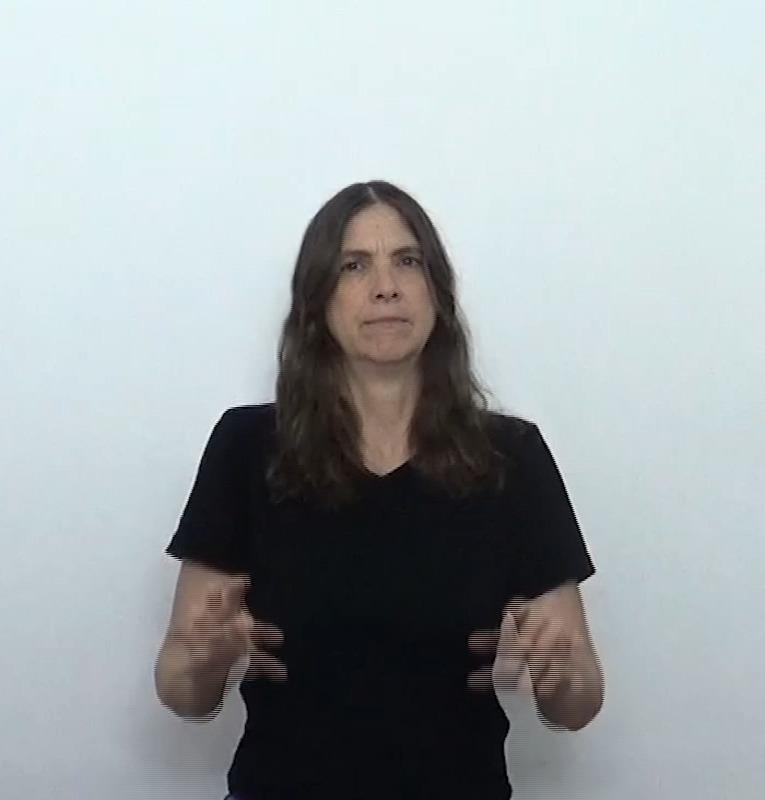Dolor: (106, 142, 658, 751)
